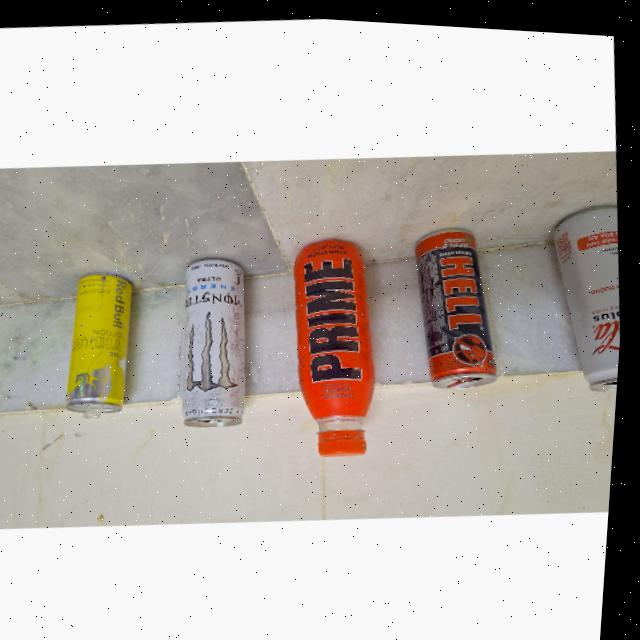Coca Cola Plus: (403, 215, 514, 390), (543, 189, 631, 388)
Prime - Shitass: (277, 224, 403, 467)
Redbull Yellow Edition: (59, 263, 146, 421)
White Monster: (165, 249, 265, 431)
